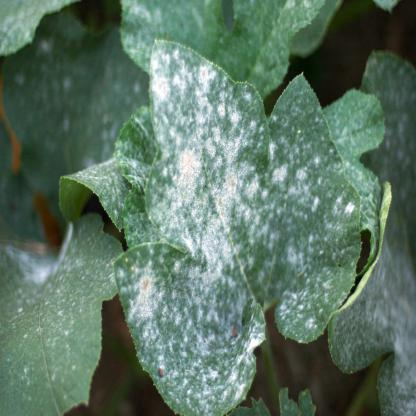squash powdery mildew leaf: (114, 30, 364, 408)
